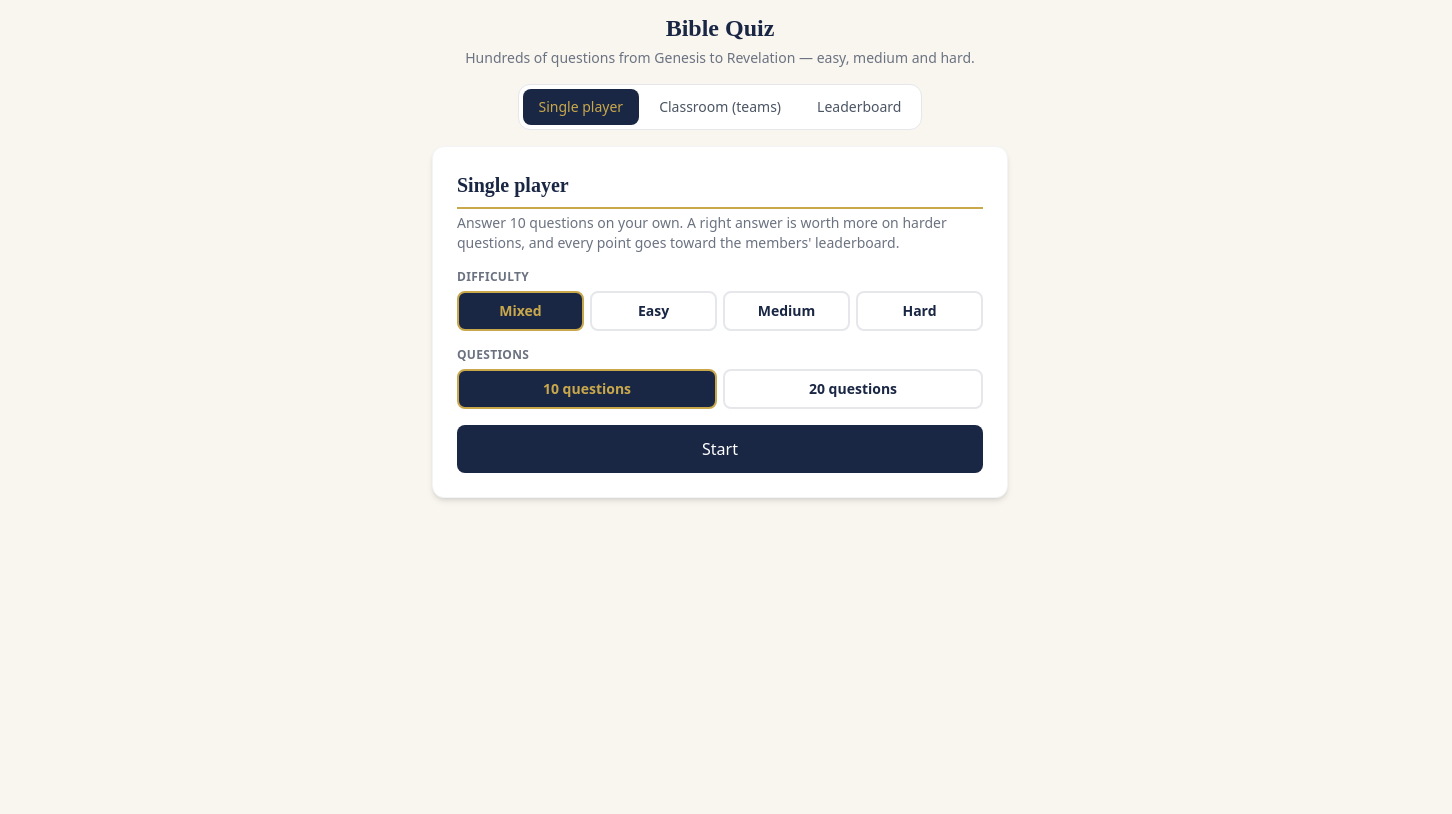
Scenario: Bible Quiz — classroom › opens the team game
Click the tab "Classroom (teams)". click: (720, 107)
box: [643,89,797,125]
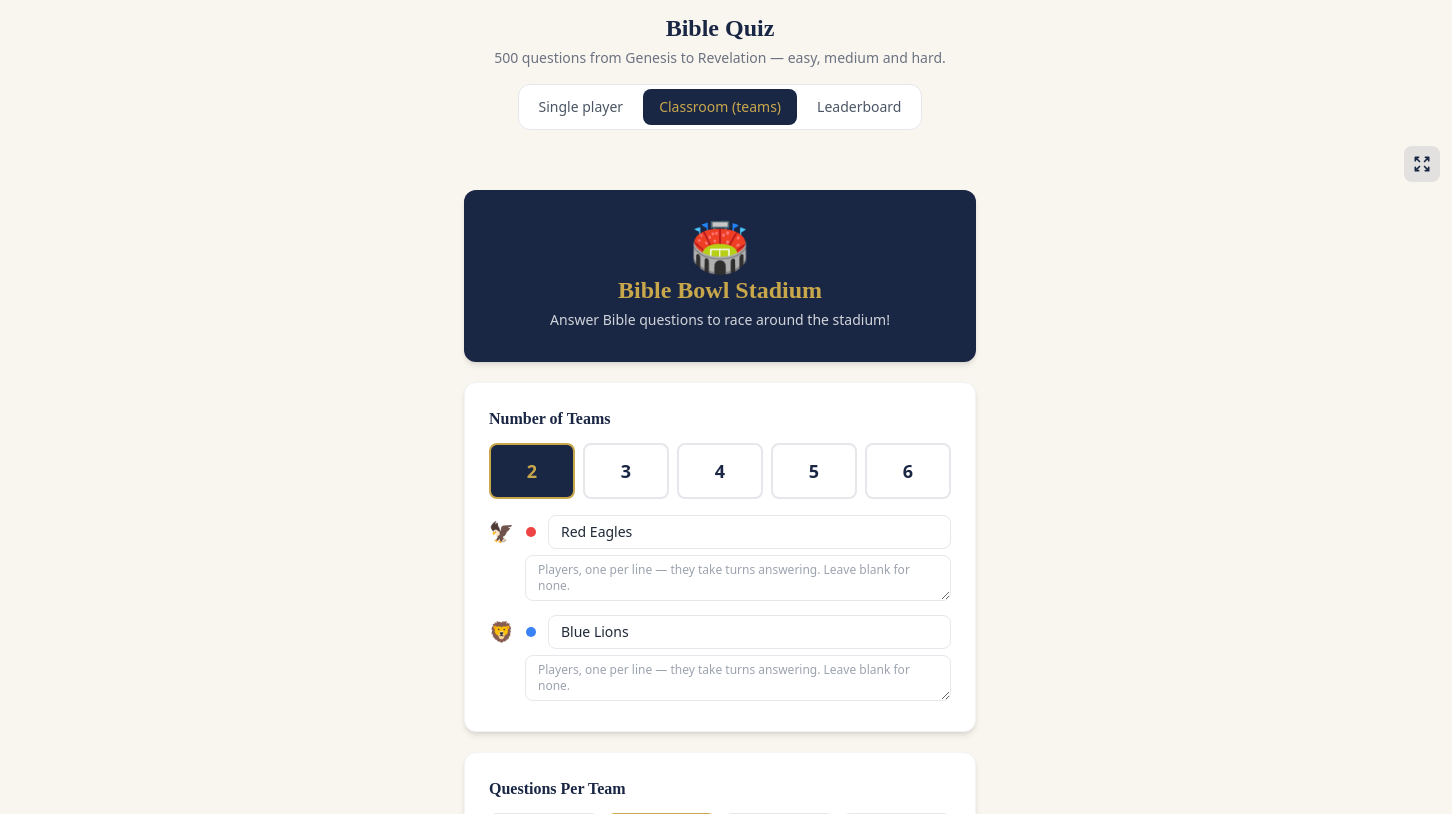
Expected: the heading "Bible Bowl Stadium" is shown, [618,277,822,303]
Expected: the button named "6 teams" is shown, [865,443,951,499]
